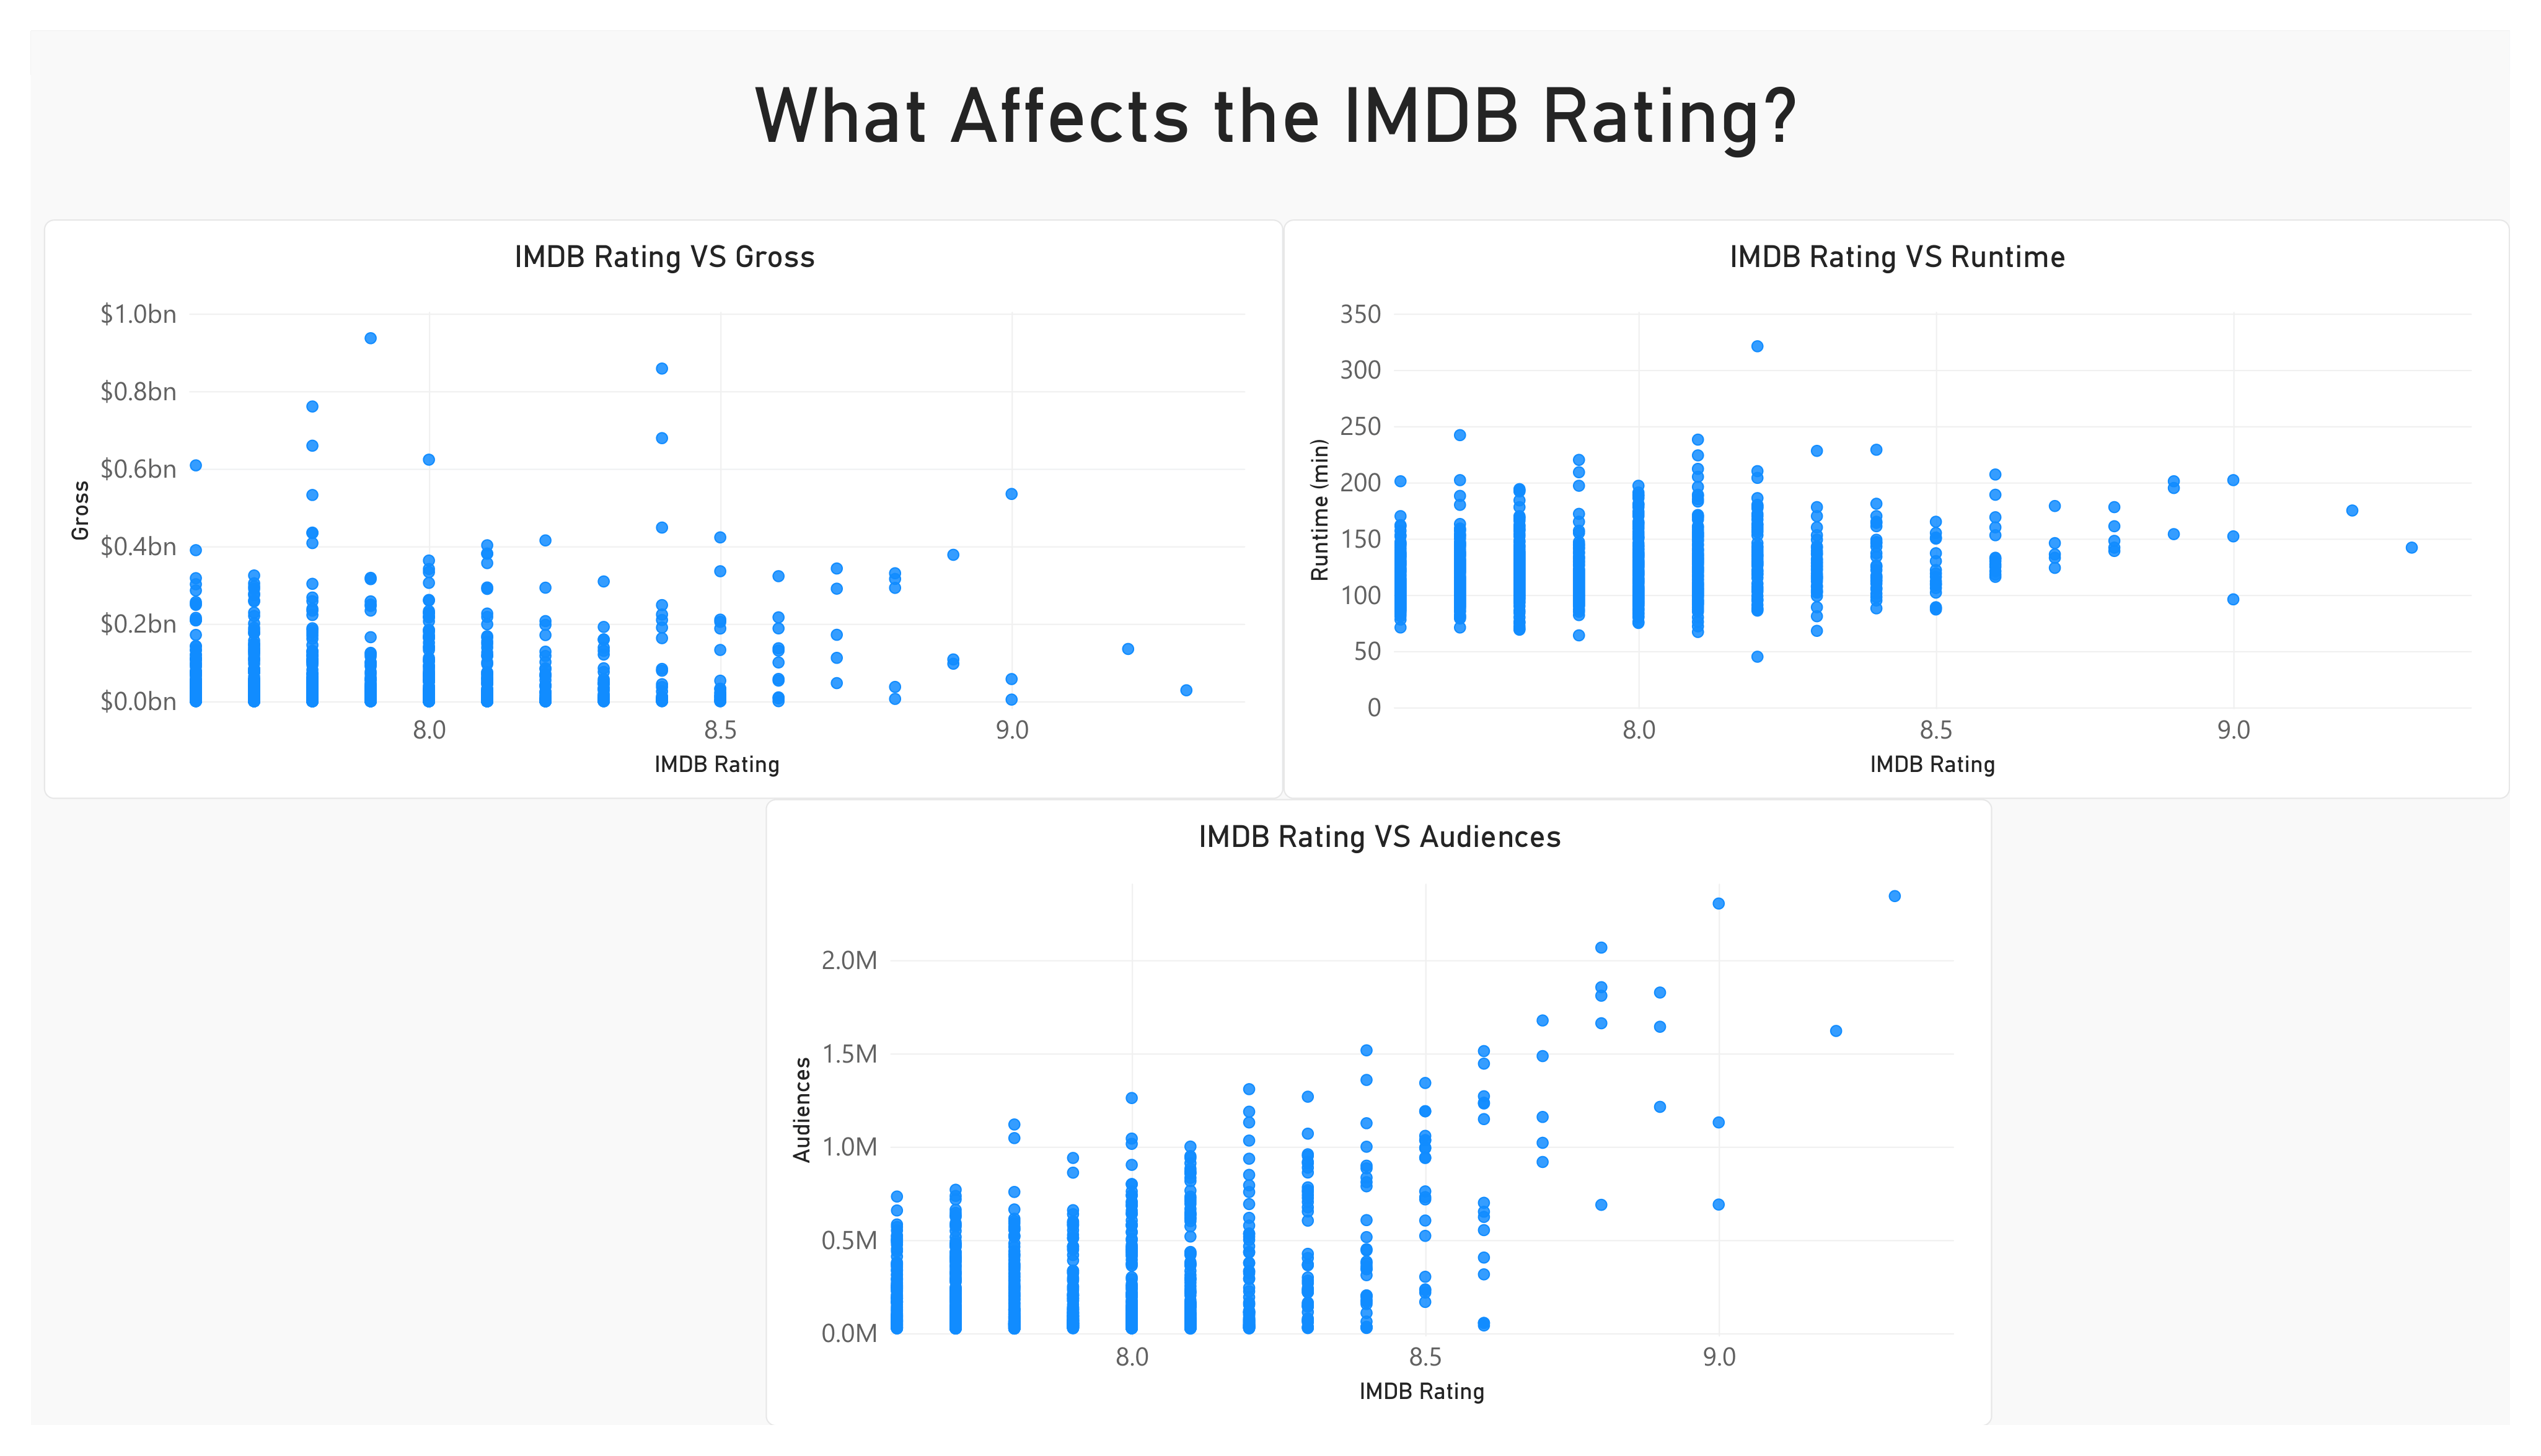

What the dashboard file says about the page in this screenshot:
{"tool":"powerbi","page":{"name":"Rating","canvas":[1920,1080],"ordinal":1},"visuals":[{"type":"scatterChart","title":"IMDB Rating VS Gross","fields":{"X":["imdb_top_1000.IMDB_Rating"],"Y":["imdb_top_1000.Gross"]},"box":[10.1,146.1,960,448.5],"z":0},{"type":"scatterChart","title":"IMDB Rating VS Runtime","fields":{"X":["imdb_top_1000.IMDB_Rating"],"Y":["imdb_top_1000.Runtime"]},"box":[970.1,146.1,949.9,448.5],"z":1000},{"type":"scatterChart","title":"IMDB Rating VS Audiences","fields":{"X":["imdb_top_1000.IMDB_Rating"],"Y":["imdb_top_1000.No_of_Votes"]},"box":[569.4,594.6,949.9,486.3],"z":2000},{"type":"textbox","title":"What Affects the IMDB Rating?","box":[10.1,30.2,1909.9,115.9],"z":2001}]}

Visuals, with their boxes on the page's 1920x1080 design canvas (x1, y1, x2, y2). These are canvas units, not pixel positions in the 2541x1456 screenshot, which may show the page scaled, cropped or inside an application window:
"IMDB Rating VS Gross" scatterChart: bbox=[10, 146, 970, 595]
"IMDB Rating VS Runtime" scatterChart: bbox=[970, 146, 1920, 595]
"IMDB Rating VS Audiences" scatterChart: bbox=[569, 595, 1519, 1081]
"What Affects the IMDB Rating?" textbox: bbox=[10, 30, 1920, 146]
